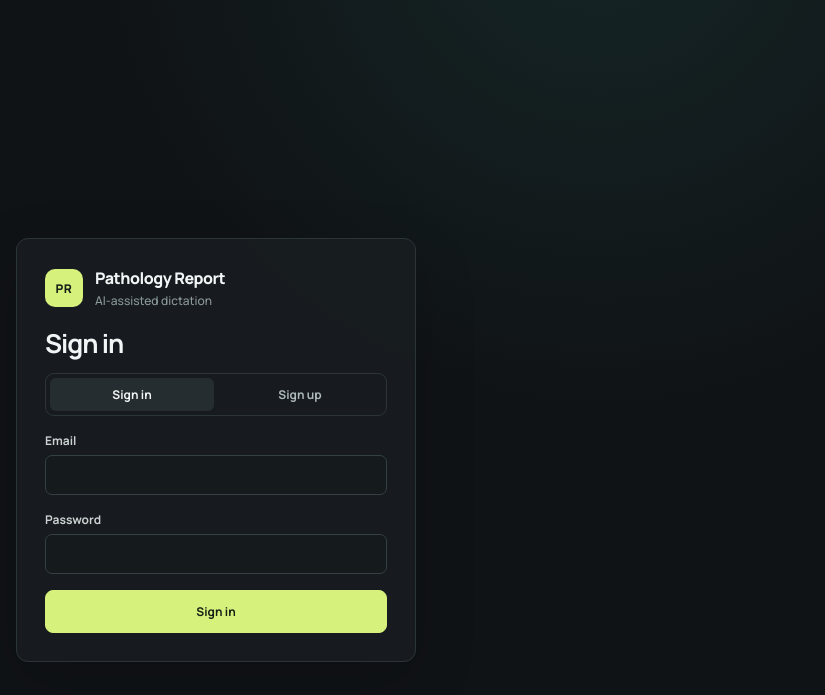
Test case: signing in › shows the server's message on a failed sign-in
In the field labelled "Email": x=216, y=475 [45,455,387,495], type "doc@example.com"
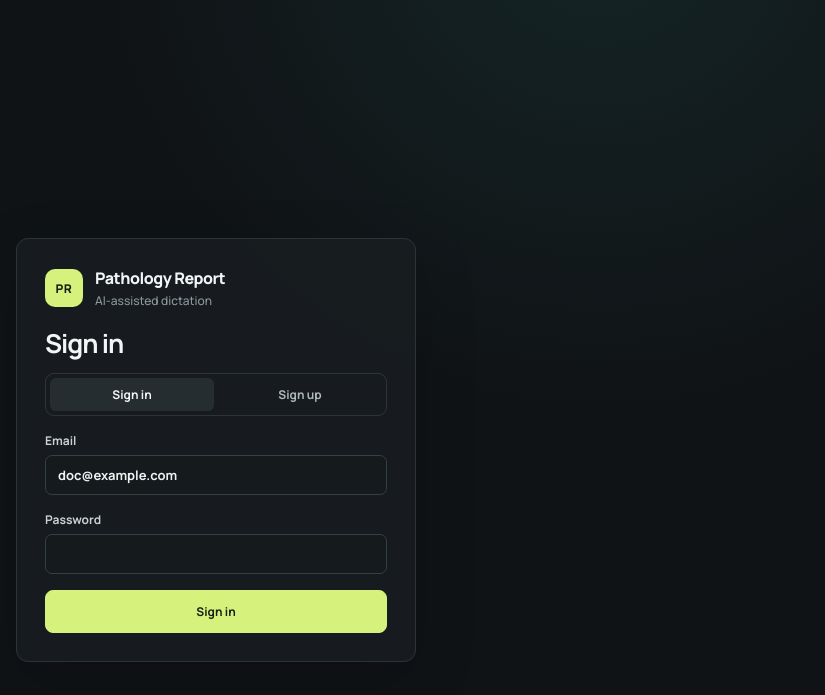
In the password field labelled "Password": x=216, y=554 [45,534,387,574], type "wrong"
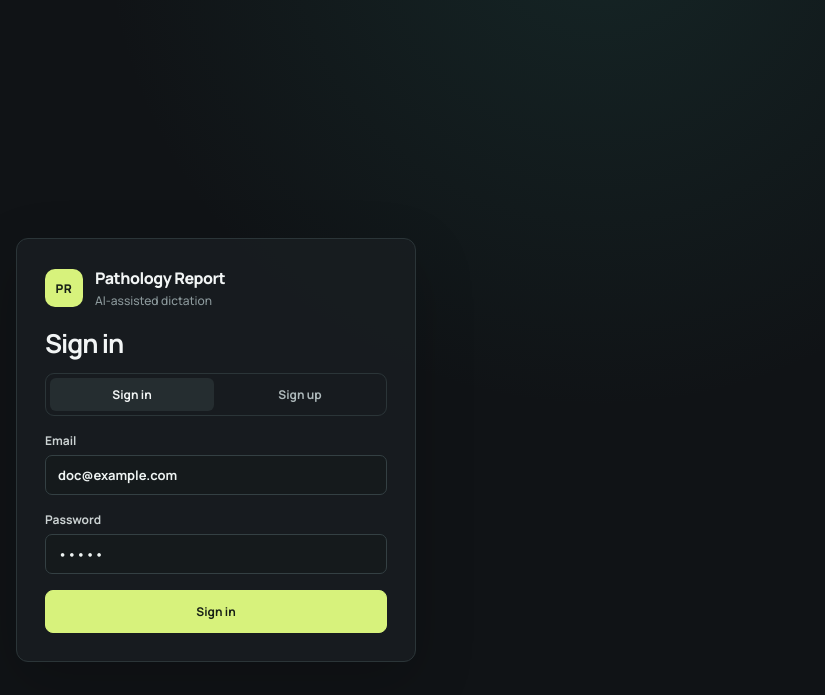
Submit the form labelled "Email", box [16,238,416,662]
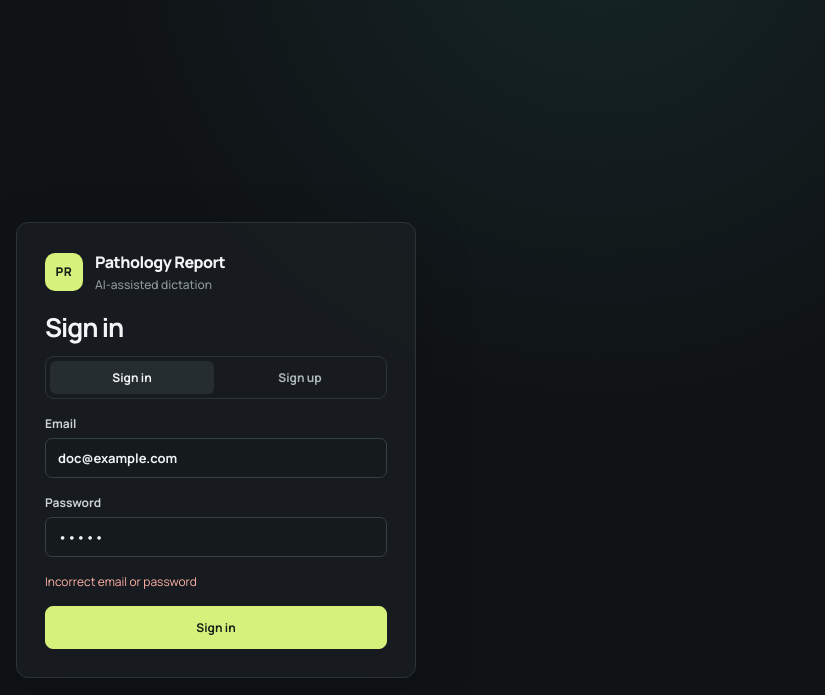
Expected: the message reads "Incorrect email or password", [45,573,197,590]
